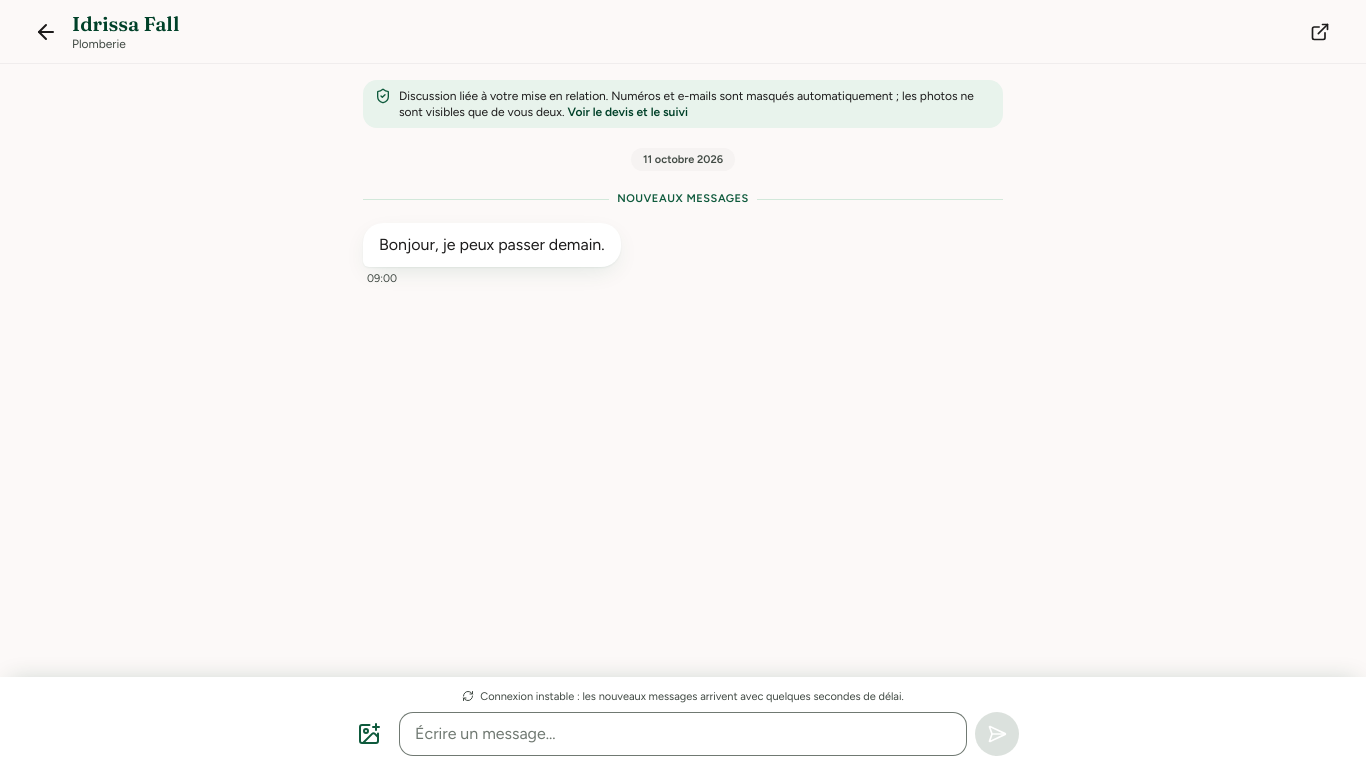
it: ConversationScreen › repli automatique sur la relecture REST › envoie et confirme un message par REST sans aucun temps réel
Expected: the text "Bonjour, je peux passer demain." is shown, [379,233,605,257]
In the text box named "Votre message": (683, 734) [399,712,967,756], type "Envoyé sans WebSocket"
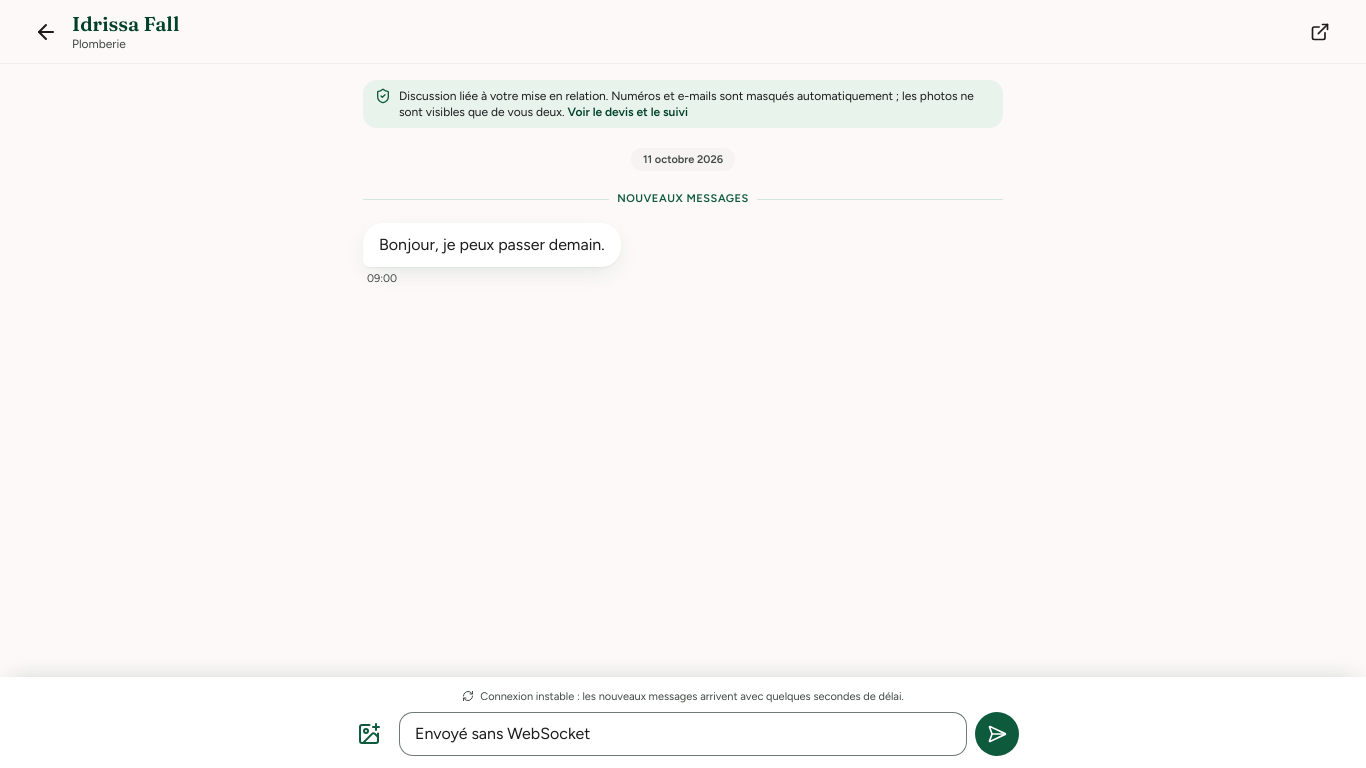
Click the button named "Envoyer": (997, 734) [975,712,1019,756]
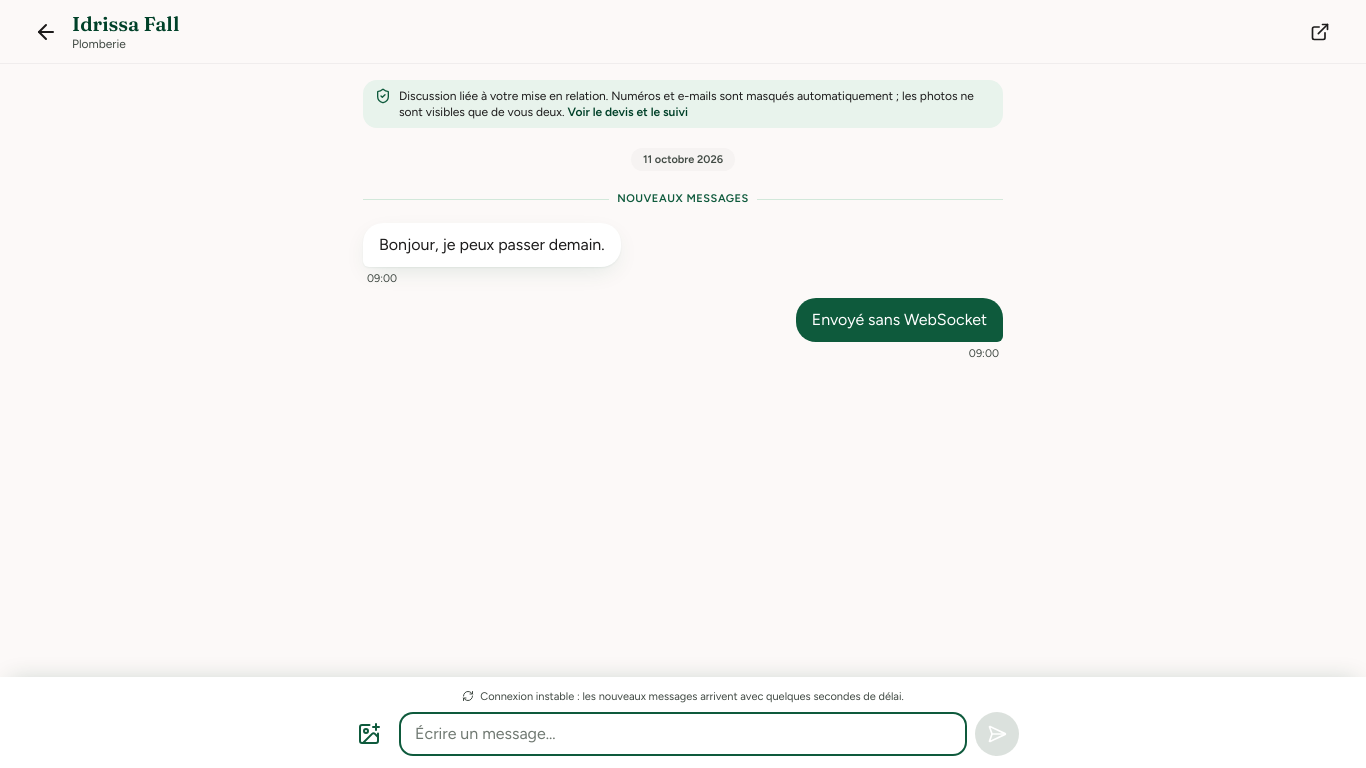
Expected: the text "Envoyé sans WebSocket" is shown once, [812,308,987,332]
